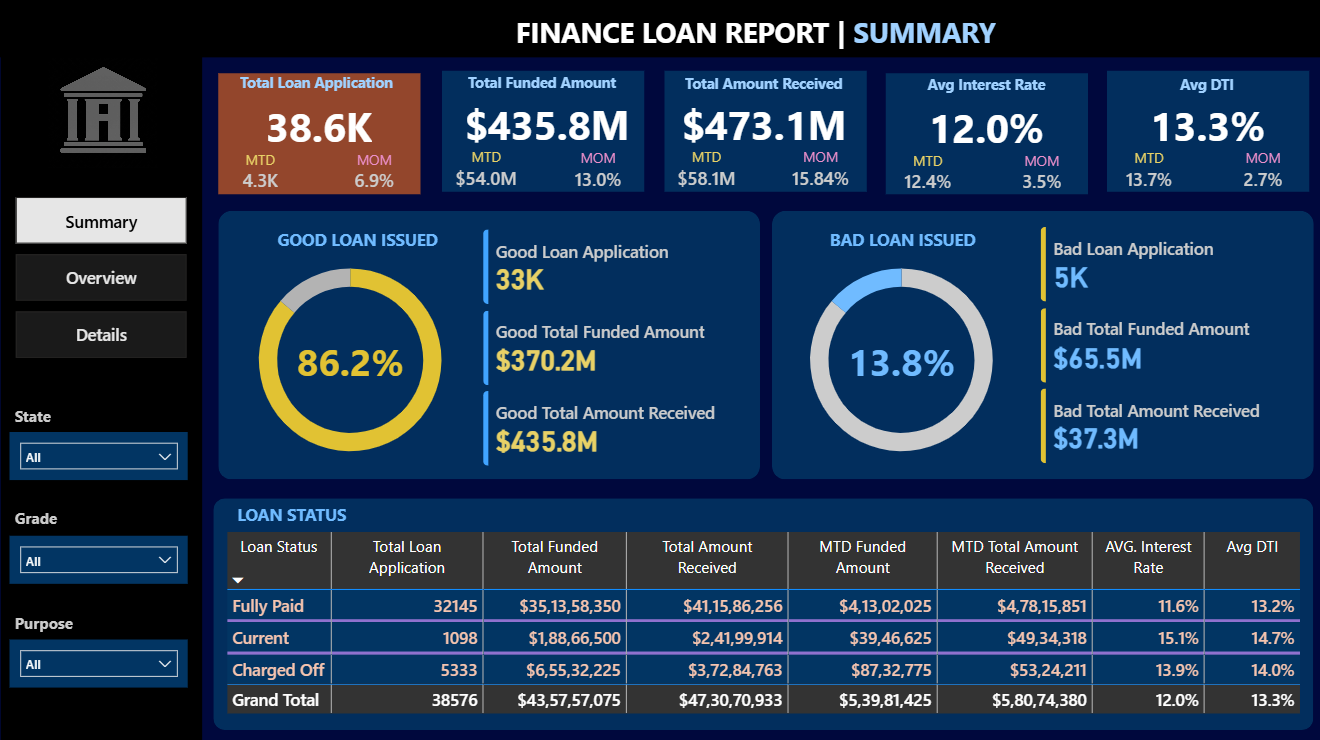

What the dashboard file says about the page in this screenshot:
{"tool":"powerbi","page":{"name":"Summary","canvas":[1280,720],"ordinal":0},"visuals":[{"type":"shape","box":[0,0,1280.3,58.3],"z":0},{"type":"shape","box":[4,58.3,194.6,662],"z":1000},{"type":"textbox","box":[194.6,10.6,1076.4,47.7],"z":2000},{"type":"shape","box":[644.6,70.4,195.5,117.1],"z":2000,"group":"g4"},{"type":"shape","box":[429.8,71.7,195.5,117.1],"z":2000,"group":"g3"},{"type":"shape","box":[1071.3,71.7,195.5,117.1],"z":2000,"group":"g6"},{"type":"shape","box":[213.8,73,195.5,117.1],"z":2000,"group":"g2"},{"type":"shape","box":[858.6,73,195.5,117.1],"z":2000,"group":"g5"},{"type":"shape","box":[213.2,206.5,523,259.5],"z":3000},{"type":"cardVisual","fields":{"Data":["financial_loan.Avg DTI"]},"box":[1072.8,84.3,192.5,74.2],"z":4000,"group":"g6"},{"type":"cardVisual","fields":{"Data":["financial_loan.Total Amount Received"]},"box":[640.7,84.7,199.1,72.9],"z":4000,"group":"g4"},{"type":"cardVisual","fields":{"Data":["financial_loan.Total Loan Application"]},"box":[215.3,85.7,192.5,74.2],"z":4000,"group":"g2"},{"type":"cardVisual","fields":{"Data":["financial_loan.AVG. Intrest Rate"]},"box":[860.1,85.7,192.5,74.2],"z":4000,"group":"g5"},{"type":"cardVisual","fields":{"Data":["financial_loan.Total funded Amount"]},"box":[431.9,85.9,200.4,72.9],"z":4000,"group":"g3"},{"type":"donutChart","fields":{"Category":["financial_loan.Good Vs Bad Loan"],"Y":["financial_loan.Total Loan Application"]},"box":[215.8,235.7,250.2,230.4],"z":4000},{"type":"cardVisual","fields":{"Data":["financial_loan.MTD Funded Amount"]},"box":[419.3,124.4,107.5,82.1],"z":5000,"group":"g3"},{"type":"cardVisual","fields":{"Data":["financial_loan.MTD Total Amount Received"]},"box":[636,129.1,98.1,72.2],"z":5000,"group":"g4"},{"type":"cardVisual","fields":{"Data":["financial_loan.MTD Avd DTI"]},"box":[1062.7,130.4,98.1,72.2],"z":5000,"group":"g6"},{"type":"cardVisual","fields":{"Data":["financial_loan.MTD Loan Application"]},"box":[205.2,131.7,98.1,72.2],"z":5000,"group":"g2"},{"type":"cardVisual","fields":{"Data":["financial_loan.MTD AVG.Intrest Rate"]},"box":[850,131.8,98.1,72.2],"z":5000,"group":"g5"},{"type":"cardVisual","fields":{"Data":["financial_loan.Good Loan %"]},"box":[268.8,313.8,144.3,72.8],"z":5000},{"type":"group","id":"g1","title":"Group 2","box":[205.2,67.5,1068.4,139],"z":6000},{"type":"cardVisual","fields":{"Data":["financial_loan.MOM Total Amount Received"]},"box":[745.1,129.1,101.8,72.2],"z":6000,"group":"g4"},{"type":"cardVisual","fields":{"Data":["financial_loan.MOM Funded Amount"]},"box":[530.3,130.4,101.8,72.2],"z":6000,"group":"g3"},{"type":"cardVisual","fields":{"Data":["financial_loan.MOM Avg DTI"]},"box":[1171.8,130.4,101.8,72.2],"z":6000,"group":"g6"},{"type":"cardVisual","fields":{"Data":["financial_loan.MOM Loan Application"]},"box":[314.3,131.7,101.8,72.2],"z":6000,"group":"g2"},{"type":"cardVisual","fields":{"Data":["financial_loan.MOM Avg. Intrest Rate"]},"box":[959.1,131.8,101.8,72.2],"z":6000,"group":"g5"},{"type":"shape","box":[748,206.5,523,259.5],"z":7000},{"type":"group","id":"g2","title":"Group 1","box":[205.2,67.5,210.9,136.4],"z":8000,"group":"g1"},{"type":"textbox","box":[208.9,67.5,199.1,42.4],"z":8000,"group":"g2"},{"type":"textbox","box":[427.7,67.9,197.8,39.7],"z":8000,"group":"g3"},{"type":"textbox","box":[641.5,68.4,196.5,38.4],"z":8000,"group":"g4"},{"type":"textbox","box":[856.2,69.4,199.1,39.7],"z":8000,"group":"g5"},{"type":"textbox","box":[1068.7,70.4,197.8,31.8],"z":8000,"group":"g6"},{"type":"textbox","box":[259.5,218.5,177.4,33.1],"z":8000},{"type":"group","id":"g3","title":"Group 1","box":[419.3,67.9,213.1,138.6],"z":9000,"group":"g1"},{"type":"cardVisual","fields":{"Data":["financial_loan.Good Loan Application","financial_loan.Good Total Funded Amount","financial_loan.Good Total Amount Received"]},"box":[452.8,207.9,280.7,264.8],"z":9000},{"type":"group","id":"g4","title":"Group 1","box":[636,68.4,210.9,132.9],"z":10000,"group":"g1"},{"type":"donutChart","fields":{"Category":["financial_loan.Good Vs Bad Loan"],"Y":["financial_loan.Total Loan Application"]},"box":[748,235.7,250.2,230.4],"z":10000},{"type":"group","id":"g5","title":"Group 1","box":[850,69.4,210.9,134.6],"z":11000,"group":"g1"},{"type":"textbox","box":[785.1,218.5,177.4,33.1],"z":11000},{"type":"group","id":"g6","title":"Group 1","box":[1062.7,70.4,210.9,132.2],"z":12000,"group":"g1"},{"type":"cardVisual","fields":{"Data":["financial_loan.Bad Loan %"]},"box":[801,313.8,144.3,72.8],"z":12000},{"type":"cardVisual","fields":{"Data":["financial_loan.Bad Loan Application","financial_loan.Bad Total Funded Amount","financial_loan.Bad Total Amount Received"]},"box":[990.3,205.2,280.7,264.8],"z":13000},{"type":"shape","box":[209.2,483.2,1061.8,223.7],"z":14000},{"type":"tableEx","fields":{"Values":["financial_loan.loan_status","financial_loan.Total Loan Application","financial_loan.Total funded Amount","financial_loan.Total Amount Received","financial_loan.MTD Funded Amount","financial_loan.MTD Total Amount Received","financial_loan.AVG. Intrest Rate","financial_loan.Avg DTI"]},"box":[215.8,511,1048.6,186.7],"z":15000},{"type":"textbox","box":[226.4,483.2,299.2,37.1],"z":16000},{"type":"slicer","fields":{"Values":["financial_loan.address_state"]},"box":[11.9,419.7,172.1,46.3],"z":17000},{"type":"textbox","box":[11.9,389.2,58.3,30.5],"z":18000},{"type":"slicer","fields":{"Values":["financial_loan.grade"]},"box":[11.9,520.3,172.1,46.3],"z":19000},{"type":"textbox","box":[11.9,487.2,74.1,30.5],"z":20000},{"type":"slicer","fields":{"Values":["financial_loan.purpose"]},"box":[11.9,619.6,172.1,46.3],"z":21000},{"type":"textbox","box":[11.9,589.2,74.1,30.5],"z":22000},{"type":"image","box":[49,59.6,105.9,105.9],"z":23000},{"type":"pageNavigator","box":[18.5,193.3,165.5,157.6],"z":24000}]}

Visuals, with their boxes in screenshot pixels (x1, y1, x2, y2), scaled from the page's 1280x720 canvas onto the 1320x740 screenshot:
shape: x1=0 y1=0 x2=1319 y2=60
shape: x1=4 y1=60 x2=205 y2=739
textbox: x1=201 y1=11 x2=1311 y2=60
shape: x1=665 y1=72 x2=866 y2=193
shape: x1=443 y1=74 x2=645 y2=194
shape: x1=1105 y1=74 x2=1306 y2=194
shape: x1=220 y1=75 x2=422 y2=195
shape: x1=885 y1=75 x2=1087 y2=195
shape: x1=220 y1=212 x2=759 y2=479
cardVisual - financial_loan.Avg DTI: x1=1106 y1=87 x2=1305 y2=163
cardVisual - financial_loan.Total Amount Received: x1=661 y1=87 x2=866 y2=162
cardVisual - financial_loan.Total Loan Application: x1=222 y1=88 x2=421 y2=164
cardVisual - financial_loan.AVG. Intrest Rate: x1=887 y1=88 x2=1085 y2=164
cardVisual - financial_loan.Total funded Amount: x1=445 y1=88 x2=652 y2=163
donutChart - financial_loan.Good Vs Bad Loan x financial_loan.Total Loan Application: x1=223 y1=242 x2=481 y2=479
cardVisual - financial_loan.MTD Funded Amount: x1=432 y1=128 x2=543 y2=212
cardVisual - financial_loan.MTD Total Amount Received: x1=656 y1=133 x2=757 y2=207
cardVisual - financial_loan.MTD Avd DTI: x1=1096 y1=134 x2=1197 y2=208
cardVisual - financial_loan.MTD Loan Application: x1=212 y1=135 x2=313 y2=210
cardVisual - financial_loan.MTD AVG.Intrest Rate: x1=877 y1=135 x2=978 y2=210
cardVisual - financial_loan.Good Loan %: x1=277 y1=323 x2=426 y2=397
"Group 2" group: x1=212 y1=69 x2=1313 y2=212
cardVisual - financial_loan.MOM Total Amount Received: x1=768 y1=133 x2=873 y2=207
cardVisual - financial_loan.MOM Funded Amount: x1=547 y1=134 x2=652 y2=208
cardVisual - financial_loan.MOM Avg DTI: x1=1208 y1=134 x2=1313 y2=208
cardVisual - financial_loan.MOM Loan Application: x1=324 y1=135 x2=429 y2=210
cardVisual - financial_loan.MOM Avg. Intrest Rate: x1=989 y1=135 x2=1094 y2=210
shape: x1=771 y1=212 x2=1311 y2=479
"Group 1" group: x1=212 y1=69 x2=429 y2=210
textbox: x1=215 y1=69 x2=421 y2=113
textbox: x1=441 y1=70 x2=645 y2=111
textbox: x1=662 y1=70 x2=864 y2=110
textbox: x1=883 y1=71 x2=1088 y2=112
textbox: x1=1102 y1=72 x2=1306 y2=105
textbox: x1=268 y1=225 x2=451 y2=259
"Group 1" group: x1=432 y1=70 x2=652 y2=212
cardVisual - financial_loan.Good Loan Application x financial_loan.Good Total Funded Amount: x1=467 y1=214 x2=756 y2=486
"Group 1" group: x1=656 y1=70 x2=873 y2=207
donutChart - financial_loan.Good Vs Bad Loan x financial_loan.Total Loan Application: x1=771 y1=242 x2=1029 y2=479
"Group 1" group: x1=877 y1=71 x2=1094 y2=210
textbox: x1=810 y1=225 x2=993 y2=259
"Group 1" group: x1=1096 y1=72 x2=1313 y2=208
cardVisual - financial_loan.Bad Loan %: x1=826 y1=323 x2=975 y2=397
cardVisual - financial_loan.Bad Loan Application x financial_loan.Bad Total Funded Amount: x1=1021 y1=211 x2=1311 y2=483
shape: x1=216 y1=497 x2=1311 y2=727
tableEx - financial_loan.loan_status x financial_loan.Total Loan Application: x1=223 y1=525 x2=1304 y2=717
textbox: x1=233 y1=497 x2=542 y2=535
slicer - financial_loan.address_state: x1=12 y1=431 x2=190 y2=479
textbox: x1=12 y1=400 x2=72 y2=431
slicer - financial_loan.grade: x1=12 y1=535 x2=190 y2=582
textbox: x1=12 y1=501 x2=89 y2=532
slicer - financial_loan.purpose: x1=12 y1=637 x2=190 y2=684
textbox: x1=12 y1=606 x2=89 y2=637
image: x1=51 y1=61 x2=160 y2=170
pageNavigator: x1=19 y1=199 x2=190 y2=361
